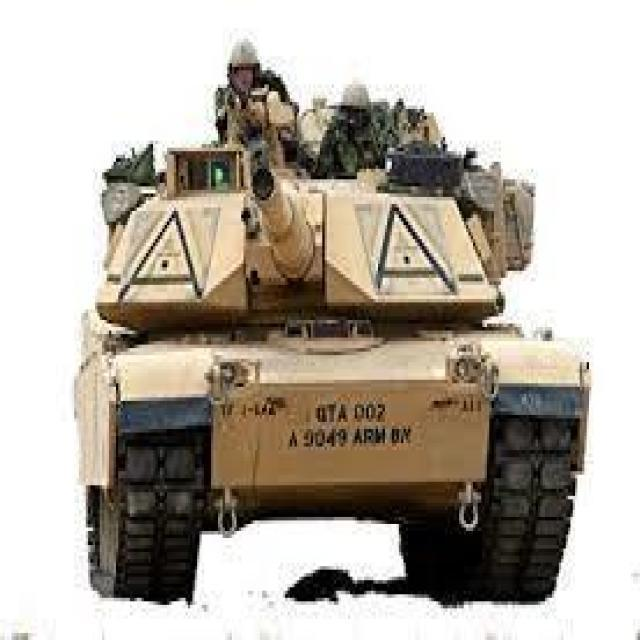MIL_MBT: (58, 88, 570, 601)
